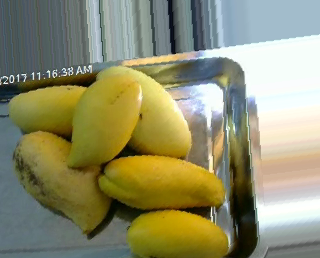Mango: (12, 129, 118, 231), (89, 62, 196, 160), (97, 154, 227, 214), (66, 72, 145, 169), (5, 83, 116, 133), (127, 211, 230, 254)
